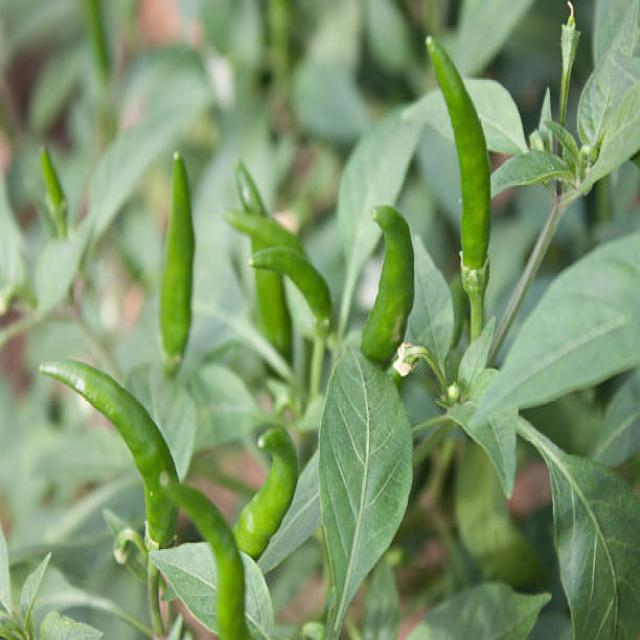Unripe: (40, 360, 178, 548), (428, 38, 490, 340), (160, 474, 250, 638), (232, 428, 298, 558), (361, 206, 414, 365), (160, 152, 195, 375), (251, 246, 332, 335), (256, 270, 291, 359), (224, 215, 304, 252), (235, 159, 266, 217)
